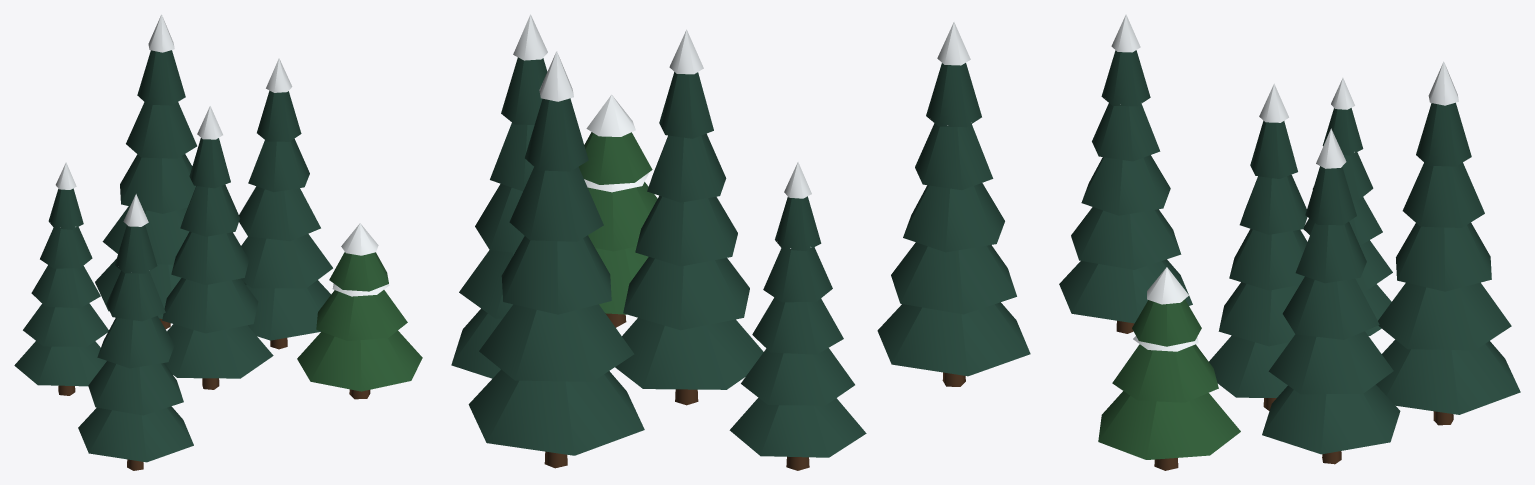
The model's file is sawyer_spruce_ridge_c.glb.
3 views of the same model, side by side, from view 1: azimuth 30°, elevation 25°; view 2: azimuth 150°, elevation 25°; view 3: azimuth 270°, elevation 25° (orthographic). The views are drawn at different scales.
Visible parts, largest first — view 1: snowpine_5_tier0, snowspruce_4_tier0, snowspruce_1_tier0, snowspruce_1_tier1, snowspruce_2_tier1, snowspruce_4_tier1, snowspruce_3_tier2, snowpine_5_tier1, snowspruce_2_tier0, snowspruce_2_tier2, snowspruce_1_tier2, snowspruce_0_tier0 (+21 smaller); view 2: snowspruce_3_tier0, snowspruce_3_tier1, snowspruce_4_tier0, snowspruce_1_tier0, snowspruce_1_tier1, snowspruce_3_tier2, snowspruce_4_tier1, snowspruce_0_tier0, snowspruce_1_tier2, snowspruce_4_tier2, snowspruce_3_tier3, snowspruce_0_tier1 (+21 smaller); view 3: snowspruce_3_tier0, snowpine_5_tier0, snowspruce_2_tier0, snowspruce_3_tier1, snowspruce_2_tier1, snowspruce_3_tier2, snowspruce_4_tier1, snowspruce_4_tier0, snowpine_5_tier1, snowspruce_2_tier2, snowspruce_4_tier2, snowspruce_3_tier3 (+21 smaller).
Part boxes in pixels (x1=…): snowpine_5_tier0: x1=297, y1=330, x2=422, y2=391; snowspruce_4_tier0: x1=78, y1=406, x2=193, y2=462; snowspruce_1_tier0: x1=165, y1=324, x2=273, y2=378; snowspruce_1_tier1: x1=162, y1=278, x2=258, y2=333; snowspruce_2_tier1: x1=241, y1=234, x2=332, y2=288; snowspruce_4_tier1: x1=88, y1=361, x2=183, y2=415; snowspruce_3_tier2: x1=120, y1=154, x2=195, y2=213; snowpine_5_tier1: x1=316, y1=290, x2=407, y2=340; snowspruce_2_tier0: x1=244, y1=280, x2=330, y2=340; snowspruce_2_tier2: x1=239, y1=186, x2=320, y2=241; snowspruce_1_tier2: x1=171, y1=231, x2=248, y2=284; snowspruce_0_tier0: x1=14, y1=341, x2=106, y2=386; snowspruce_3_tier0: x1=468, y1=369, x2=644, y2=455; snowspruce_3_tier1: x1=479, y1=304, x2=634, y2=381; snowspruce_4_tier0: x1=877, y1=302, x2=1030, y2=376; snowspruce_1_tier0: x1=615, y1=318, x2=763, y2=389; snowspruce_1_tier1: x1=623, y1=257, x2=749, y2=330; snowspruce_3_tier2: x1=501, y1=235, x2=611, y2=314; snowspruce_4_tier1: x1=891, y1=242, x2=1016, y2=314; snowspruce_0_tier0: x1=729, y1=398, x2=866, y2=457; snowspruce_1_tier2: x1=635, y1=195, x2=737, y2=266; snowspruce_4_tier2: x1=903, y1=183, x2=1004, y2=252; snowspruce_3_tier3: x1=509, y1=167, x2=603, y2=241; snowspruce_0_tier1: x1=741, y1=348, x2=854, y2=405; snowspruce_3_tier0: x1=1376, y1=339, x2=1520, y2=414; snowpine_5_tier0: x1=1098, y1=391, x2=1240, y2=459; snowspruce_2_tier0: x1=1262, y1=384, x2=1400, y2=454; snowspruce_3_tier1: x1=1378, y1=282, x2=1511, y2=350; snowspruce_2_tier1: x1=1268, y1=331, x2=1393, y2=394; snowspruce_3_tier2: x1=1396, y1=222, x2=1491, y2=291; snowspruce_4_tier1: x1=1071, y1=207, x2=1181, y2=269; snowspruce_4_tier0: x1=1059, y1=259, x2=1192, y2=323; snowpine_5_tier1: x1=1112, y1=344, x2=1218, y2=402; snowspruce_2_tier2: x1=1282, y1=276, x2=1379, y2=339; snowspruce_4_tier2: x1=1081, y1=155, x2=1170, y2=215; snowspruce_3_tier3: x1=1402, y1=162, x2=1484, y2=227.
Size of the model in its own units: 4.35 by 3.73 by 4.33.
